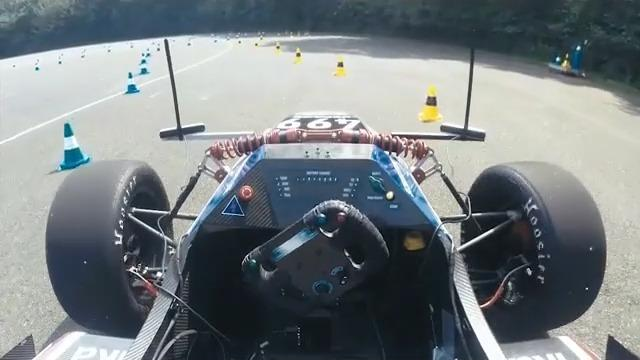blue_cone: (45, 124, 87, 165), (121, 69, 140, 94), (137, 50, 150, 70)
yellow_cone: (420, 82, 445, 119), (328, 53, 349, 86), (293, 43, 308, 60), (273, 39, 282, 54), (252, 38, 261, 49), (236, 36, 243, 46)
